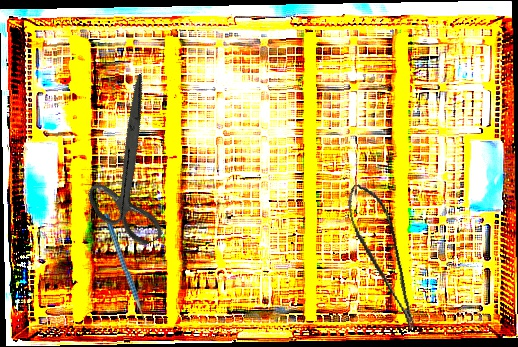Chopper: (103, 213, 156, 329)
Iris Scissors: (48, 73, 214, 259)
Micro Scissor: (341, 178, 421, 337)
